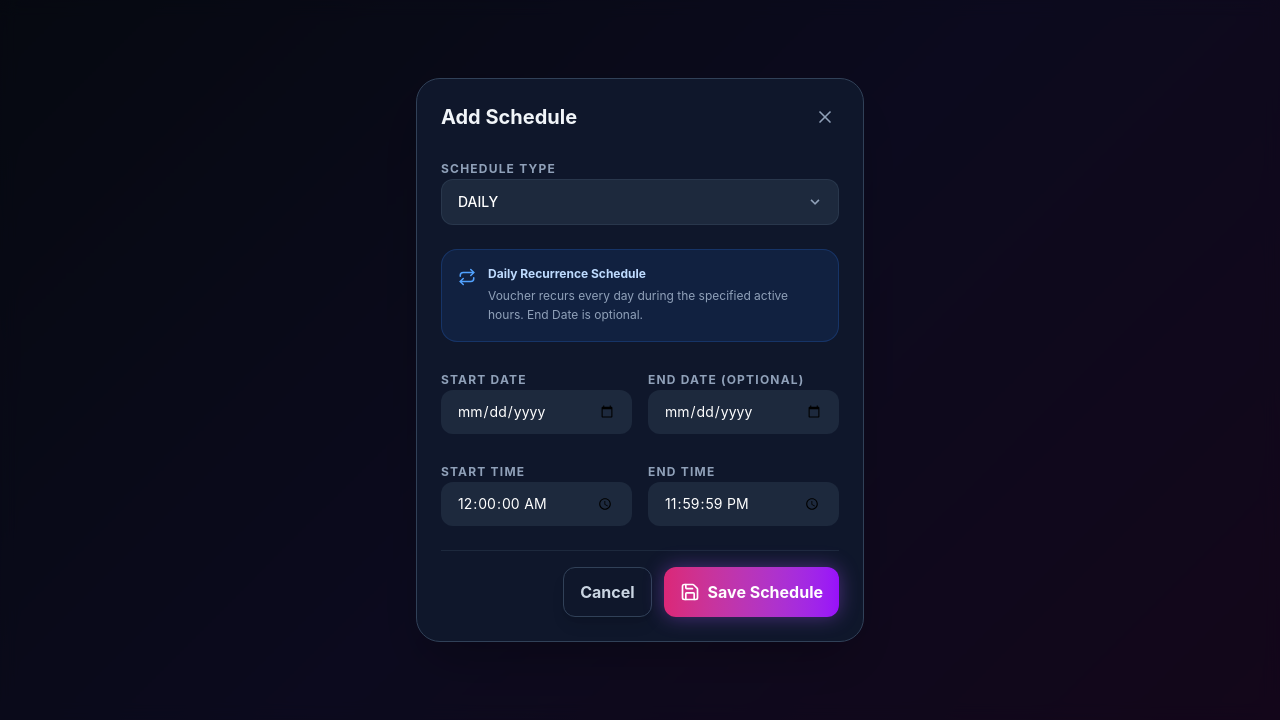
Test: VoucherValidityModal Component › SHOULD show validation error if start date is empty for non-birthday schedule
Click the button "Save Schedule". click: (751,592)
box: [664,567,839,617]
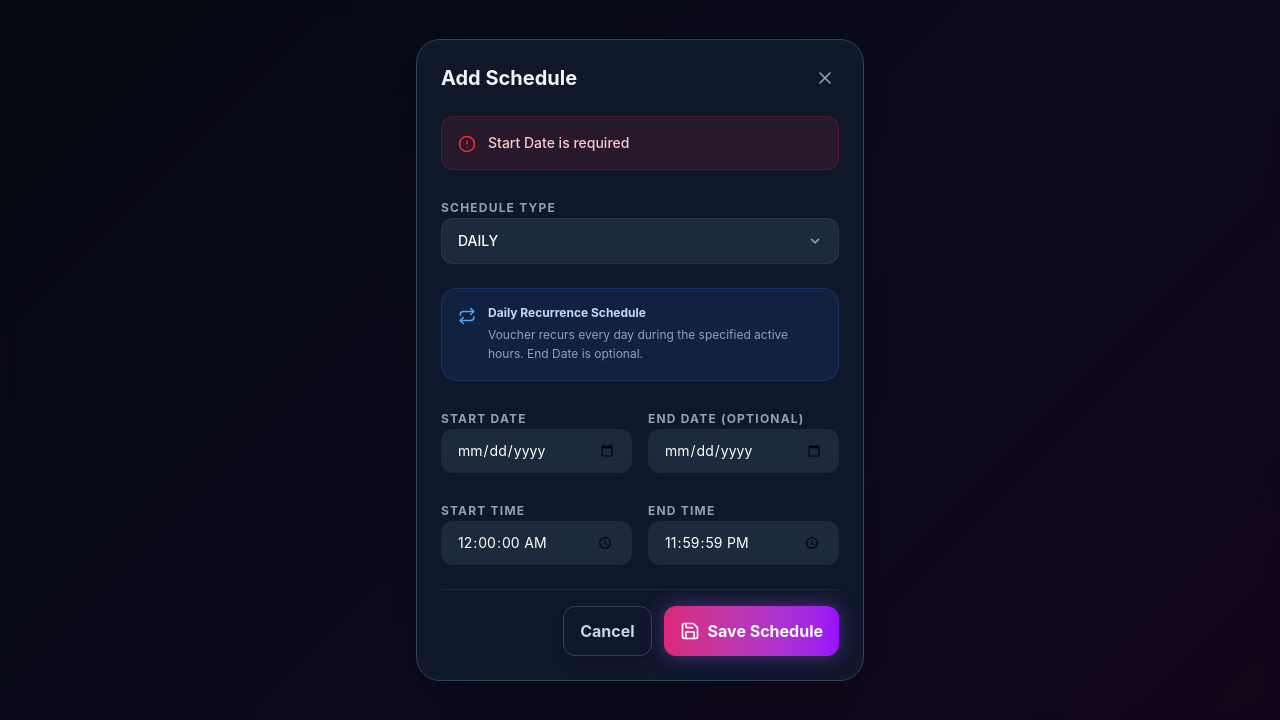
Now the text "Start Date is required" is shown, box [488,133,629,153]
